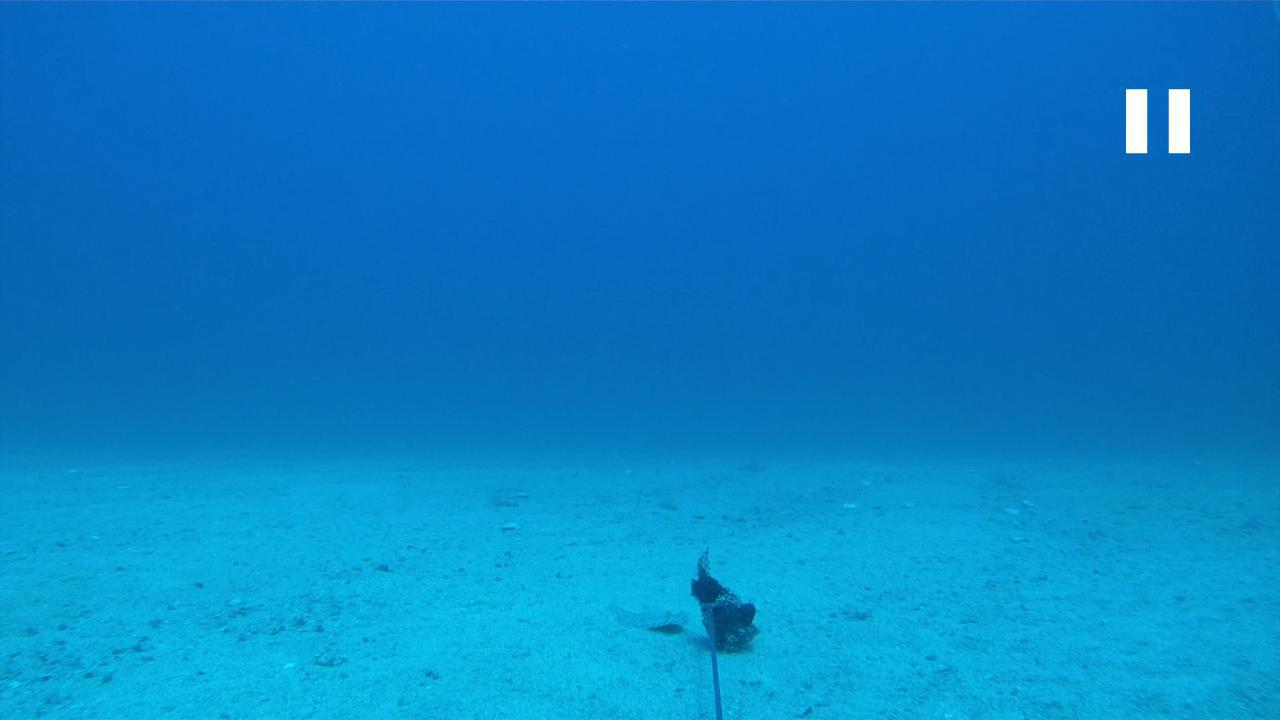bothus: (608, 599, 691, 634)
